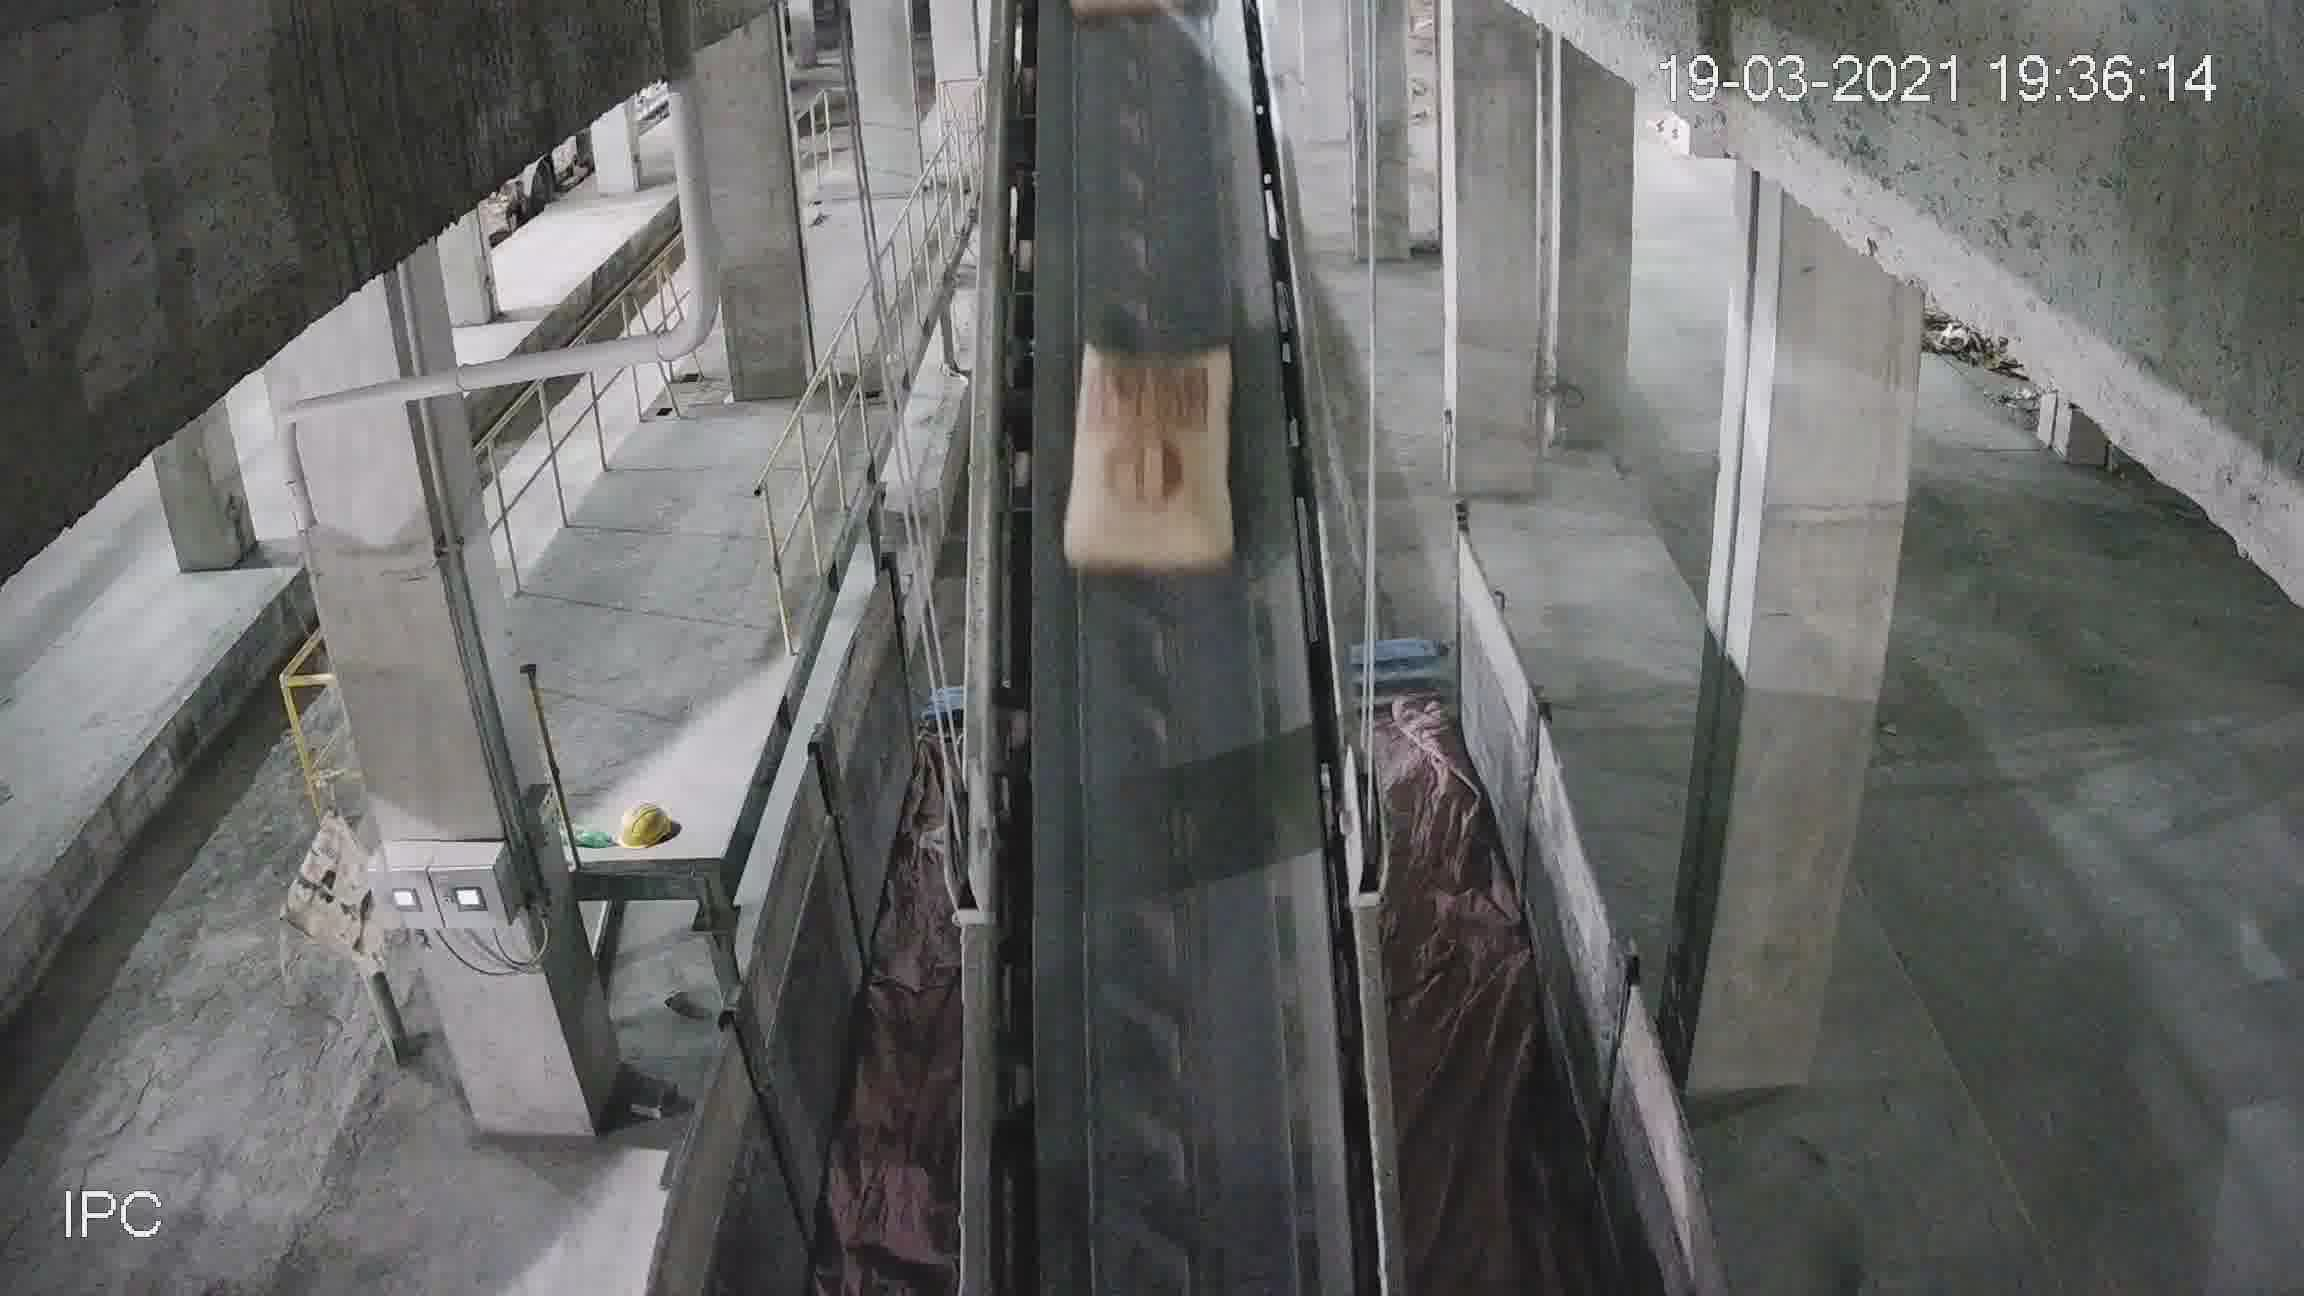bag: (1071, 354, 1233, 570)
belt: (953, 62, 1372, 1253)
